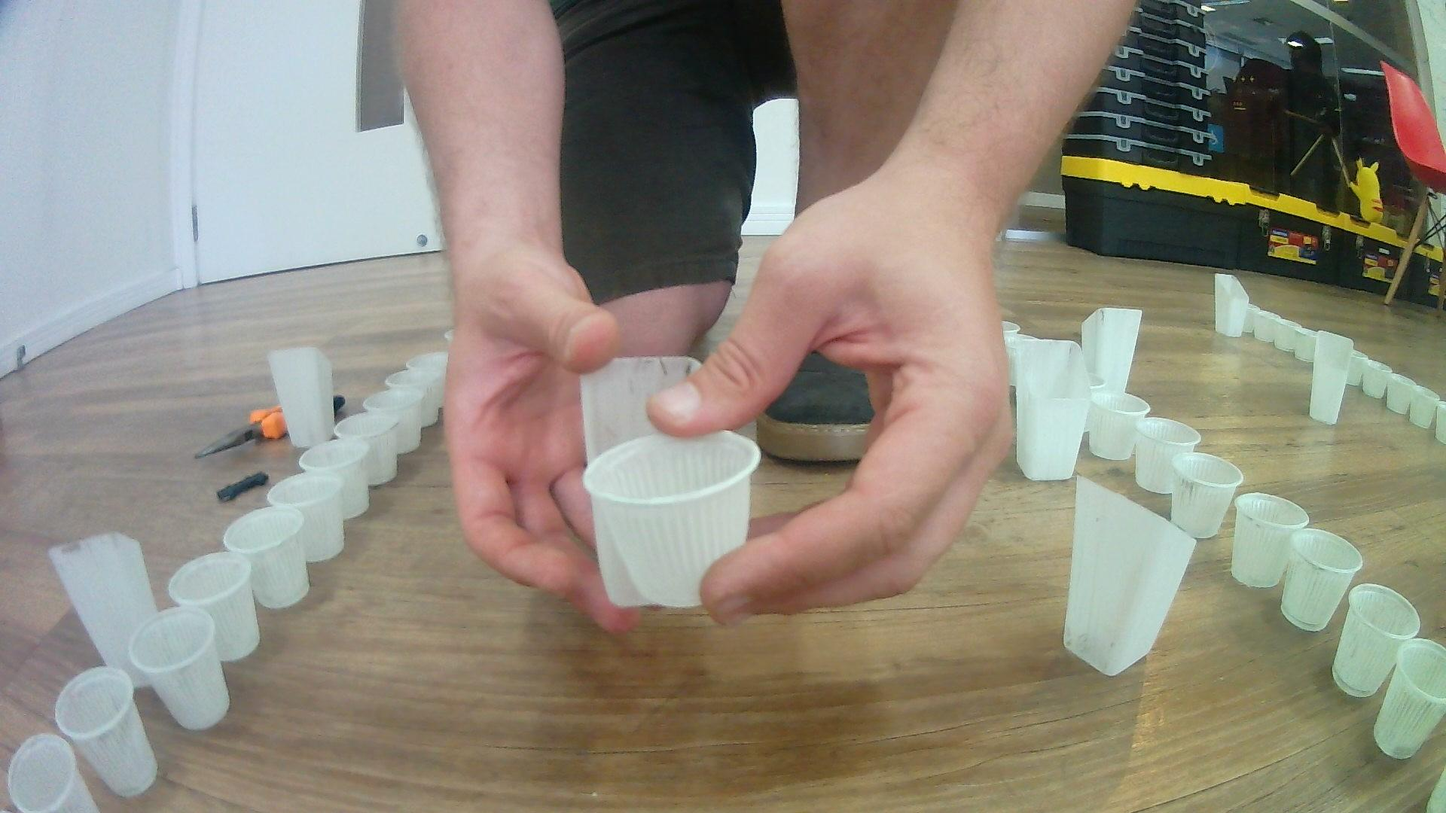erva_daninha: (1062, 472, 1199, 679), (48, 532, 161, 690), (579, 355, 708, 466), (1011, 340, 1095, 482), (266, 346, 337, 450), (1079, 306, 1145, 394), (1309, 330, 1353, 425), (1214, 273, 1250, 338)
planta: (583, 429, 764, 609), (53, 665, 159, 798), (127, 605, 231, 732), (166, 550, 261, 663), (1330, 583, 1422, 699), (222, 506, 311, 610), (1373, 638, 1446, 763), (1280, 528, 1364, 633), (1228, 492, 1311, 589), (7, 733, 102, 813), (265, 473, 346, 565), (1169, 451, 1245, 541), (297, 437, 370, 520), (1134, 416, 1202, 495), (334, 411, 399, 486), (1086, 391, 1152, 461), (360, 389, 423, 455), (383, 370, 441, 428), (406, 352, 449, 407), (1383, 373, 1417, 414), (1408, 386, 1440, 429), (1241, 305, 1274, 343), (1273, 318, 1304, 353), (1293, 326, 1323, 362), (1363, 361, 1391, 398), (1008, 333, 1043, 358), (1347, 350, 1371, 386), (1434, 401, 1446, 446), (1000, 321, 1023, 344)
